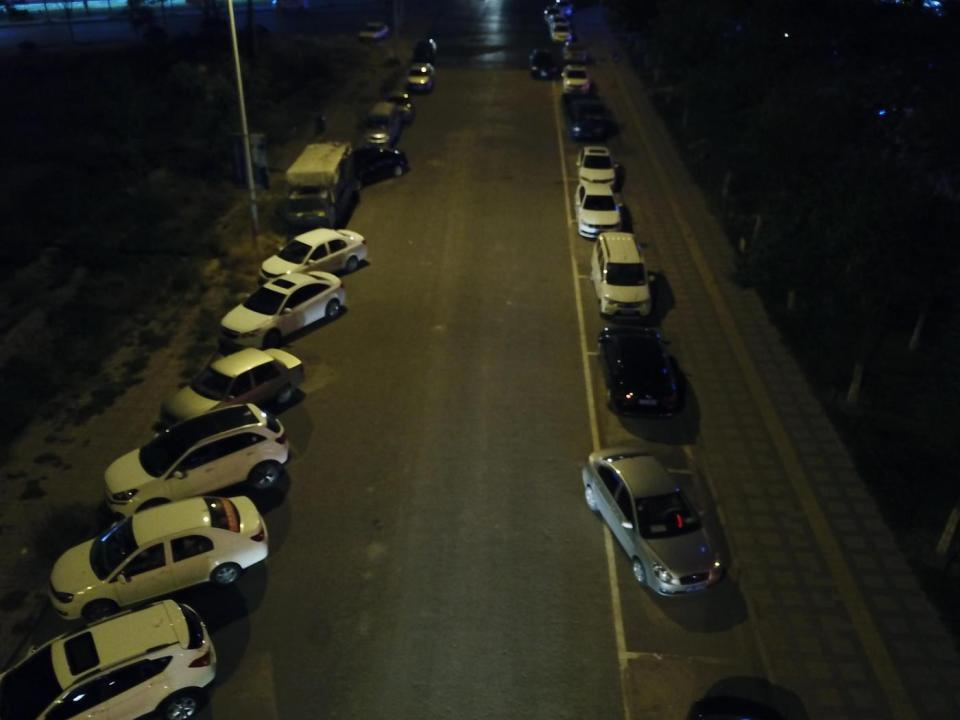car: (48, 491, 269, 621), (1, 592, 221, 718), (99, 401, 293, 519), (582, 443, 728, 596), (157, 348, 307, 430), (218, 270, 350, 349), (594, 323, 684, 420), (255, 227, 369, 286), (332, 139, 410, 190), (573, 180, 622, 240), (574, 142, 618, 189), (402, 61, 434, 97), (527, 45, 559, 80), (560, 62, 592, 94), (384, 91, 414, 124), (354, 19, 389, 44), (412, 37, 437, 62), (562, 39, 587, 63), (549, 21, 574, 43), (553, 1, 574, 15), (548, 15, 568, 28), (543, 7, 562, 20)
truck: (284, 135, 364, 230), (560, 88, 608, 142)
van: (589, 229, 656, 322), (362, 100, 403, 148)
